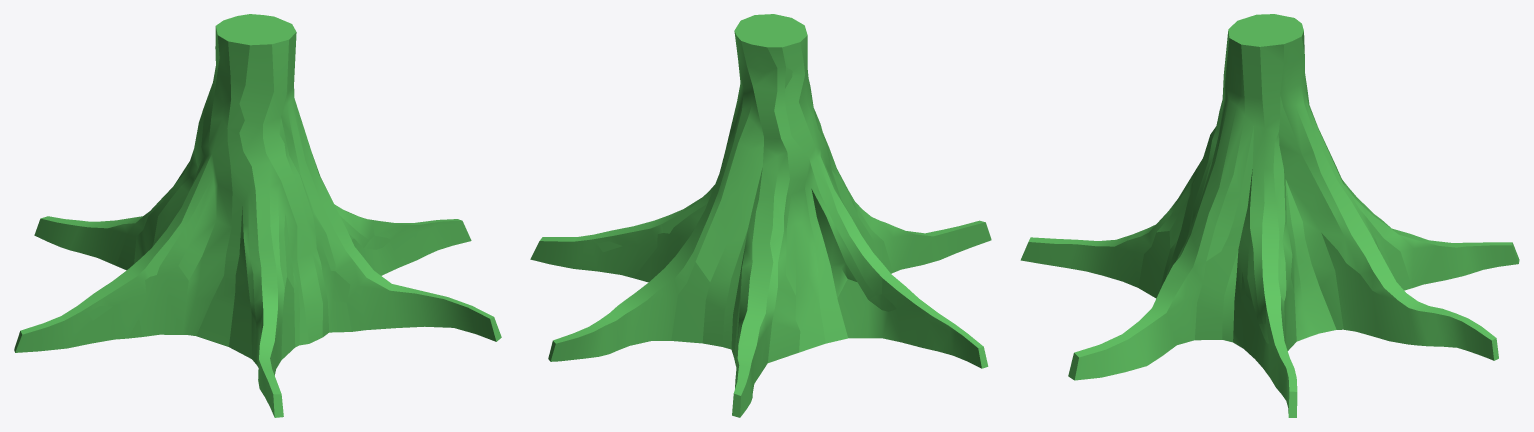
The model's file is jungle_big_tree_D_cut.fbx.
3 views of the same model, side by side, from view 1: azimuth 30°, elevation 25°; view 2: azimuth 150°, elevation 25°; view 3: azimuth 270°, elevation 25° (orthographic).
Parts seen in each view (by area): view 1: jungle_big_tree_D_cut; view 2: jungle_big_tree_D_cut; view 3: jungle_big_tree_D_cut.
Part boxes in pixels (left/top/right/bottom): jungle_big_tree_D_cut: left=14, top=14, right=501, bottom=417; jungle_big_tree_D_cut: left=530, top=14, right=991, bottom=417; jungle_big_tree_D_cut: left=1020, top=14, right=1519, bottom=417.
Bounding box in the file's own units: 448 × 257 × 421.
